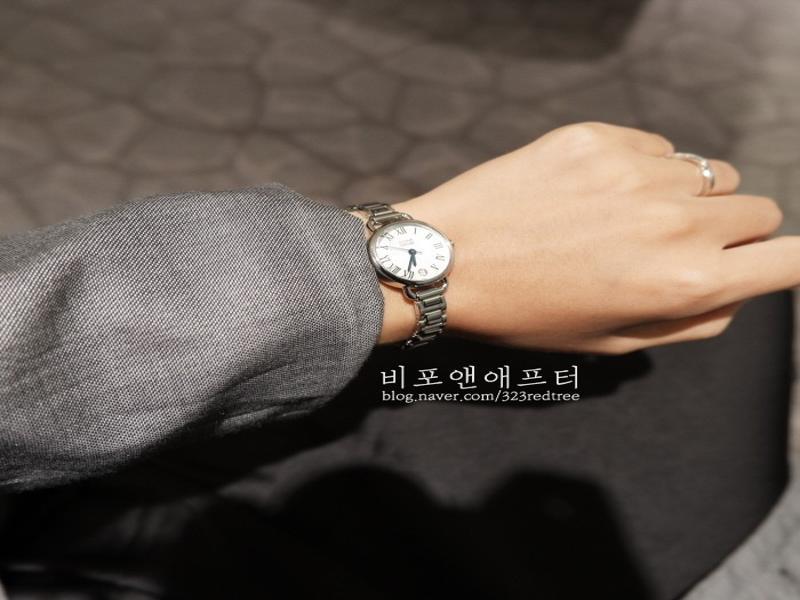watch: (344, 203, 453, 350)
